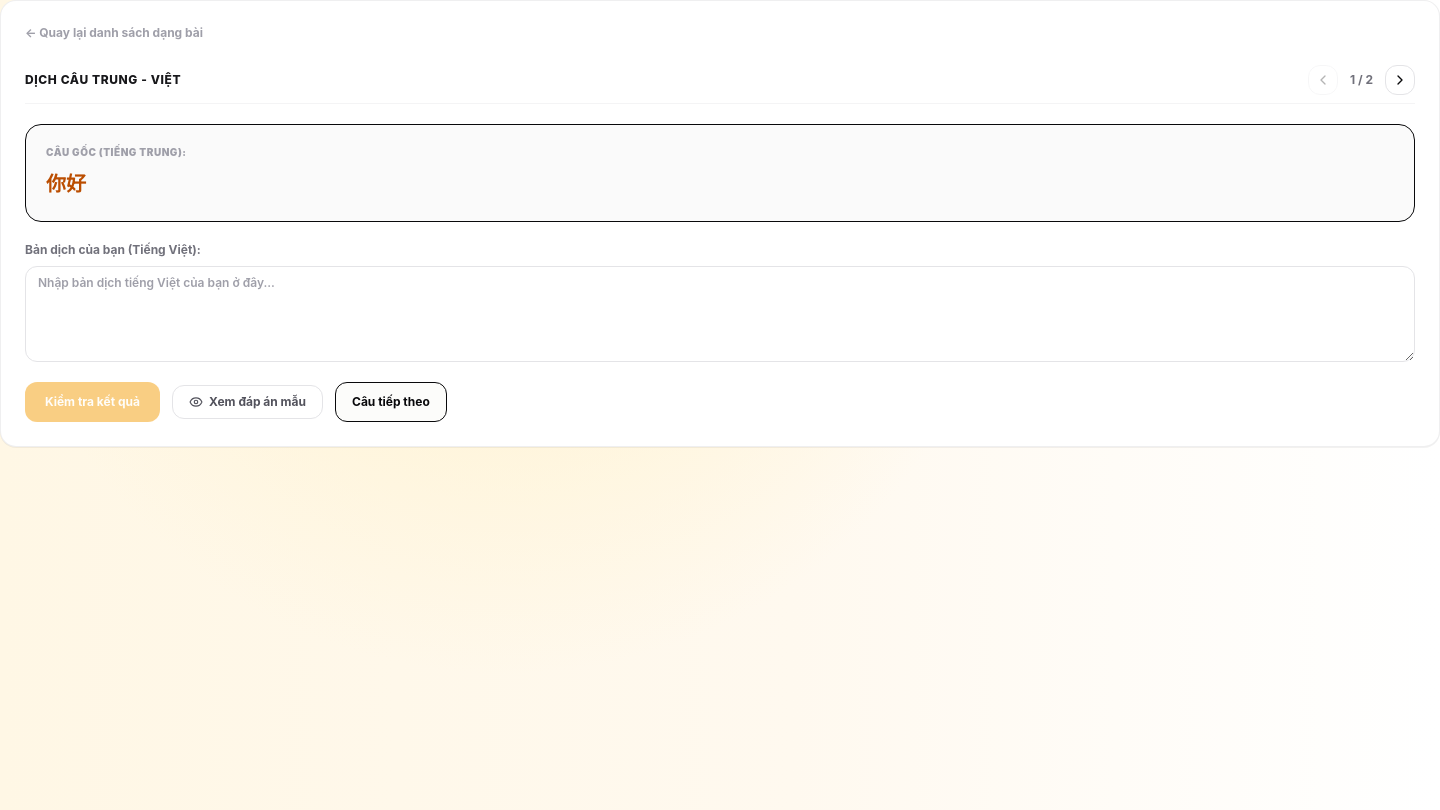
BilingualExercise — trans_zh_vi mode › toggles reference translation
Step 1. Click the button "Xem đáp án mẫu" → click(247, 402), box x1=172 y1=384 x2=323 y2=418
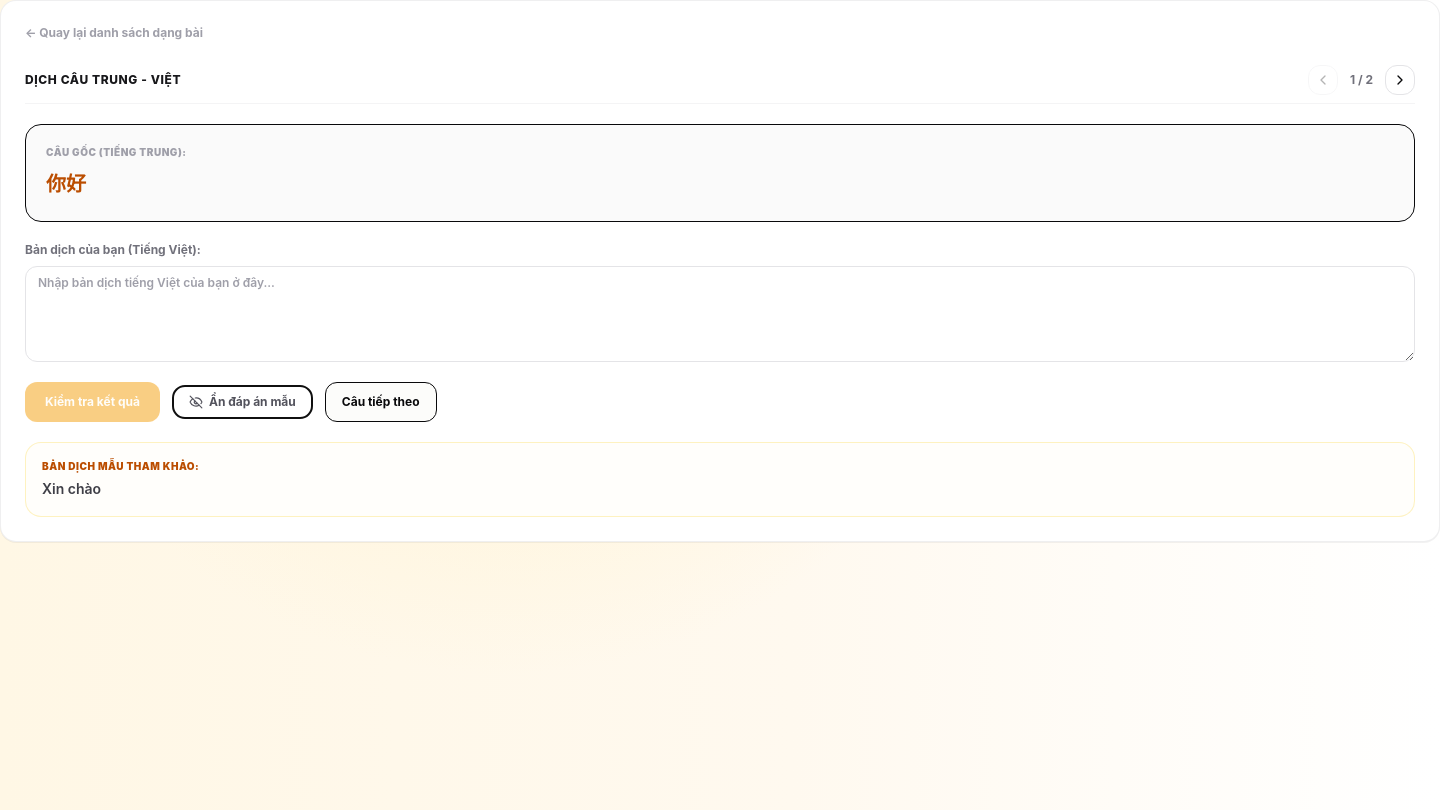
Expected: the text "Bản dịch mẫu tham khảo:" is shown, x1=42 y1=460 x2=199 y2=472
Step 2. Click the button "Ẩn đáp án mẫu" → click(242, 402), box x1=172 y1=384 x2=313 y2=418
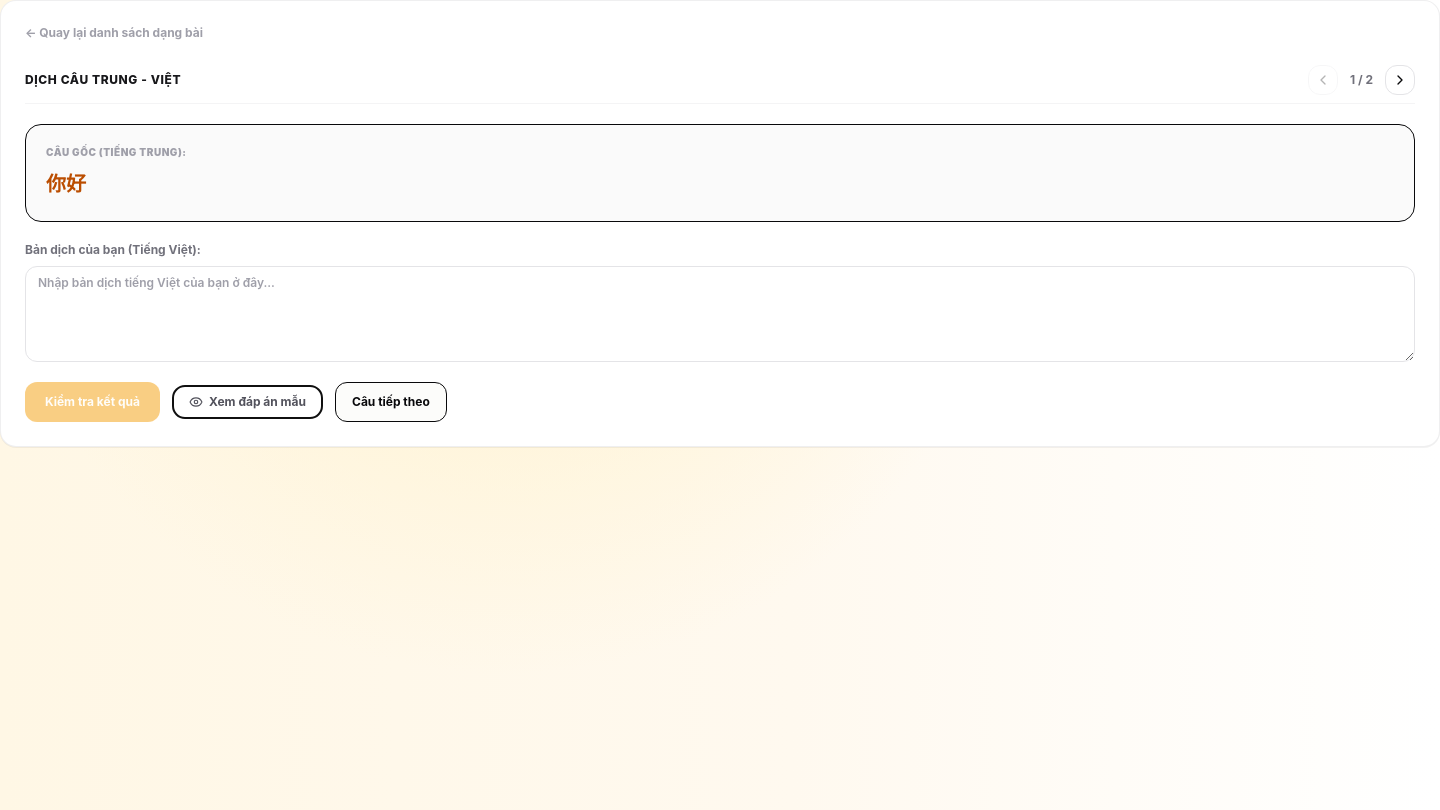
Expected: the text "Bản dịch mẫu tham khảo" is gone
